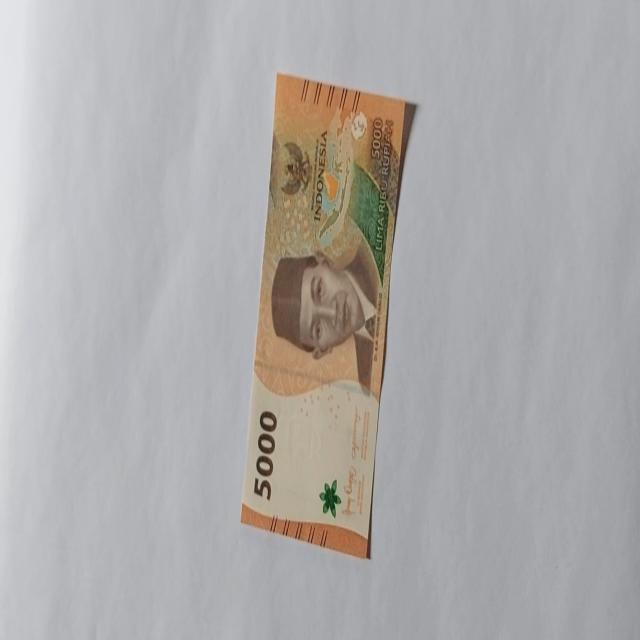lima ribu rupiah: (239, 71, 418, 558), (270, 247, 378, 363)
